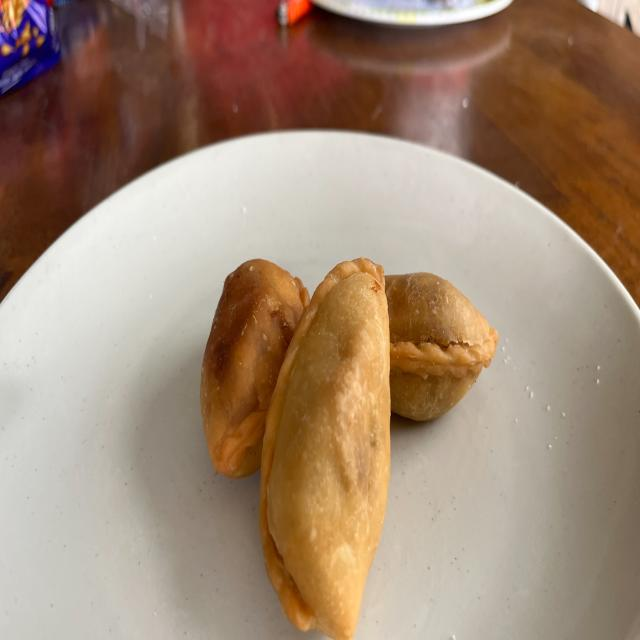karipap: (260, 258, 390, 638), (200, 260, 310, 478), (385, 273, 498, 420)
